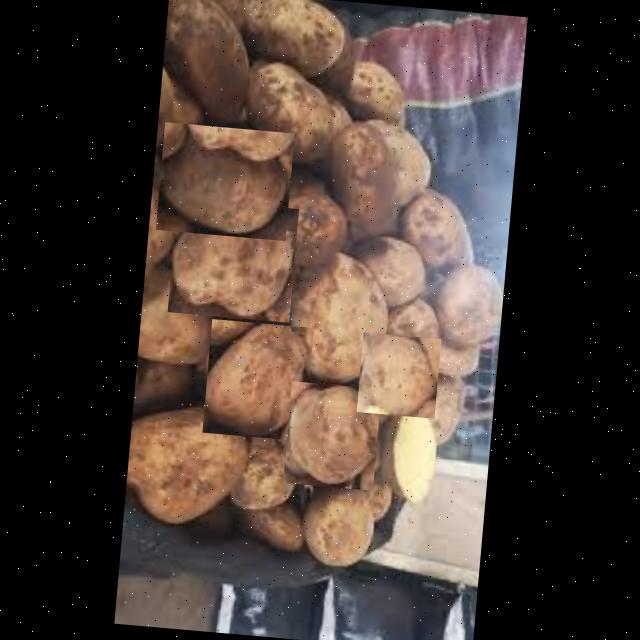Diseased-fungal potato: (154, 122, 293, 240), (166, 198, 298, 322), (282, 249, 396, 392), (200, 318, 312, 441), (282, 381, 381, 490), (355, 332, 440, 418)
